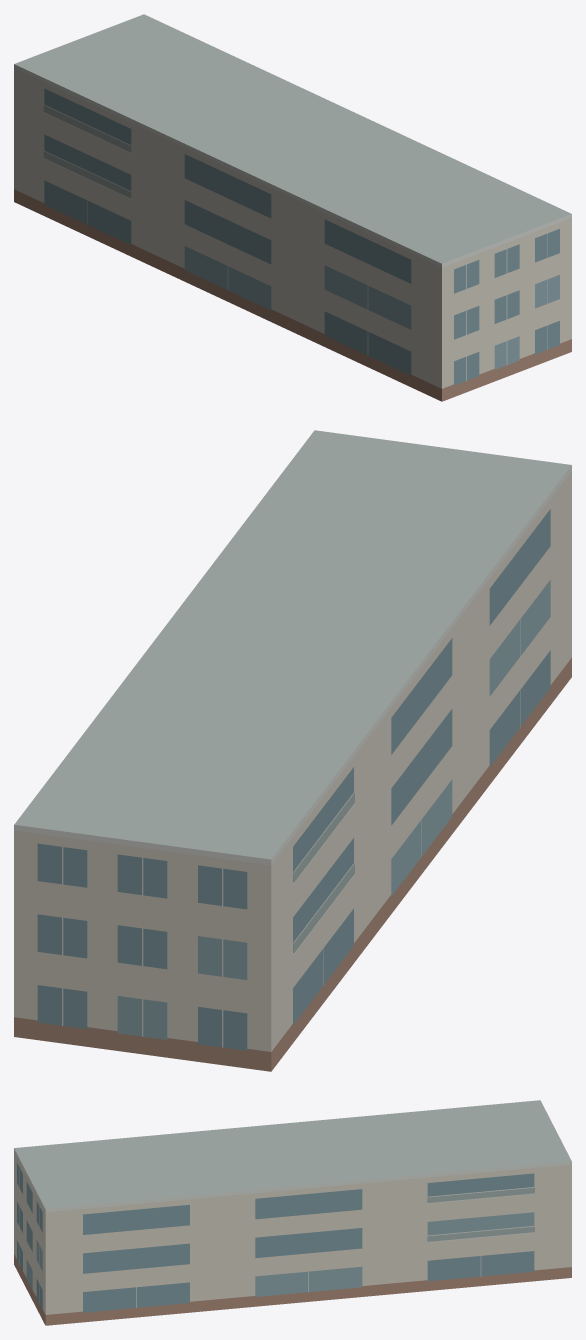
File: survey-upis-32972422.glb
The picture shows the model from 3 angles, top to bottom: view 1: azimuth 30°, elevation 25°; view 2: azimuth 150°, elevation 25°; view 3: azimuth 270°, elevation 25°; orthographic projection. The views are drawn at different scales.
Parts seen in each view (by area): view 1: survey-upis-32972422.tmp; view 2: survey-upis-32972422.tmp; view 3: survey-upis-32972422.tmp.
Part boxes in pixels (x1,y1,x2,y2): survey-upis-32972422.tmp: [14, 14, 571, 401]; survey-upis-32972422.tmp: [14, 430, 571, 1071]; survey-upis-32972422.tmp: [14, 1100, 571, 1325].
Size of the model in its own units: 18.4 by 9.15 by 39.72.
